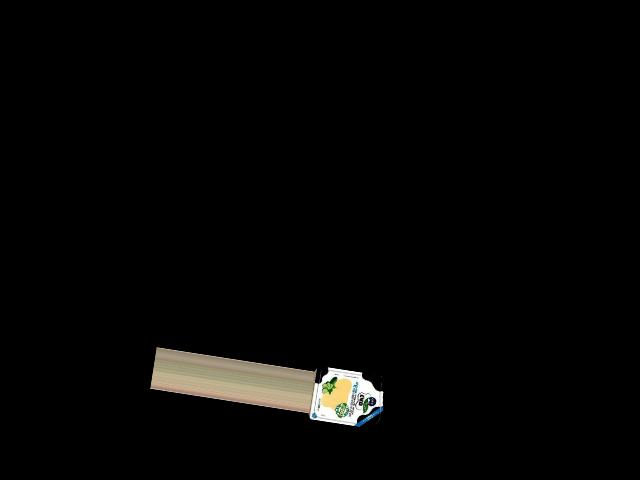cheese: (306, 362, 387, 433)
